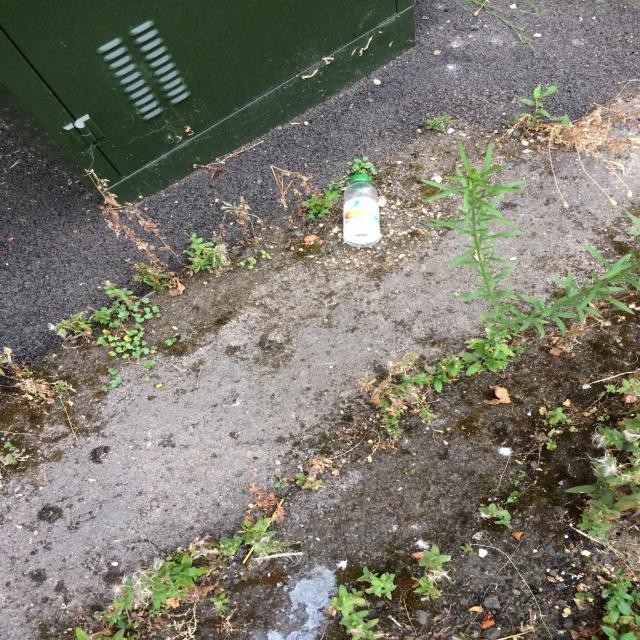Clear plastic bottle: (343, 174, 380, 248)
